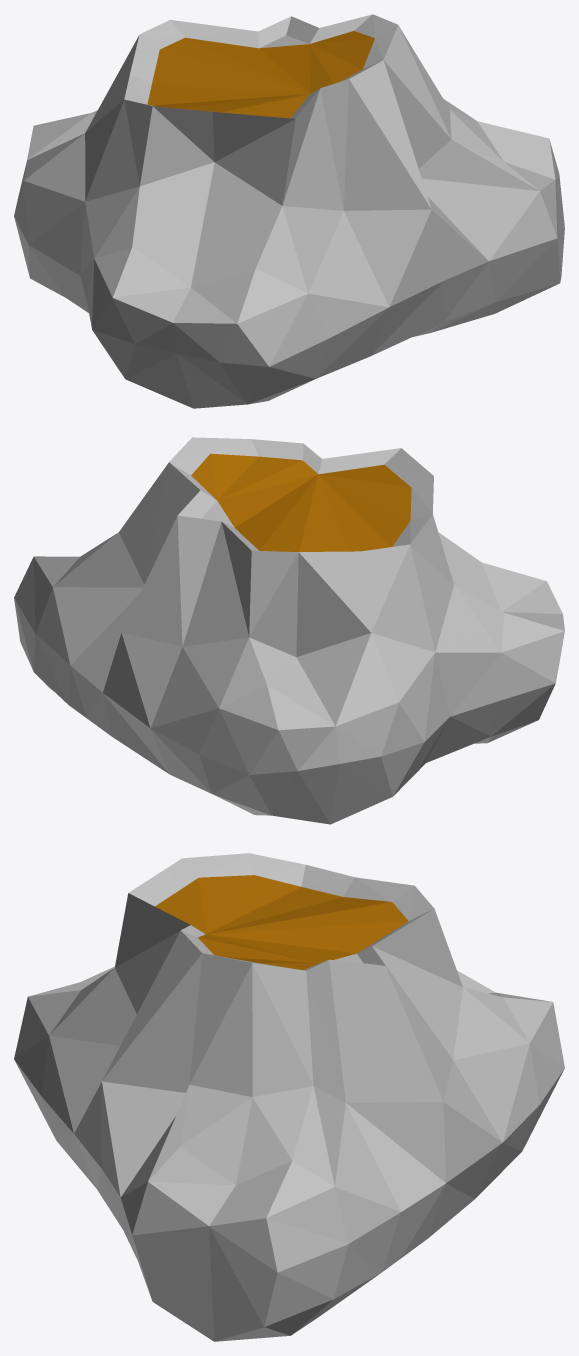
The model's file is MSH_int_Tree_Stump.fbx.
The picture shows the model from 3 angles, top to bottom: view 1: azimuth 30°, elevation 25°; view 2: azimuth 150°, elevation 25°; view 3: azimuth 270°, elevation 25°; orthographic projection. The views are drawn at different scales.
Visible parts, largest first — view 1: TreeStump; view 2: TreeStump; view 3: TreeStump.
Boxes of the visible parts, left/top/right/bottom form: TreeStump: left=14, top=14, right=564, bottom=408; TreeStump: left=14, top=437, right=564, bottom=824; TreeStump: left=14, top=853, right=564, bottom=1341.
Size of the model in its own units: 8.13 by 4.54 by 6.92.
